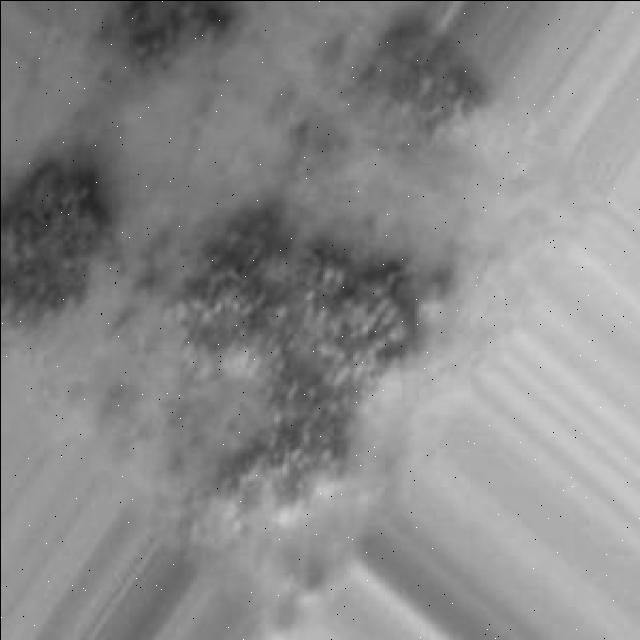Shingles: (178, 210, 454, 516), (0, 163, 112, 322), (357, 22, 491, 128)
